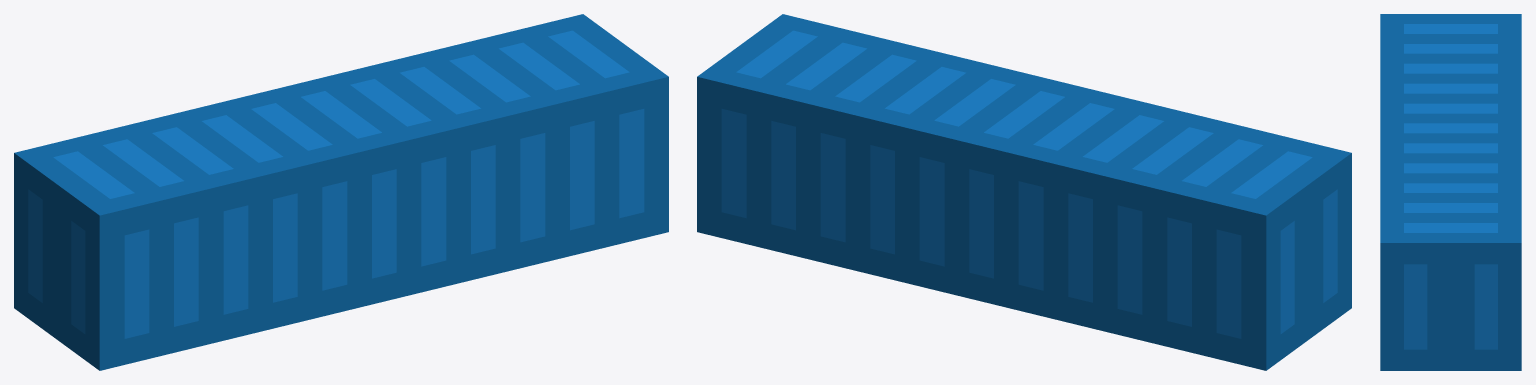
File: container-blue.gltf
The picture shows the model from 3 angles, left to right: view 1: azimuth 30°, elevation 25°; view 2: azimuth 150°, elevation 25°; view 3: azimuth 270°, elevation 25°; orthographic projection. The views are drawn at different scales.
Parts seen in each view (by area): view 1: model; view 2: model; view 3: model.
Boxes of the visible parts, left/top/right/bottom form: model: left=14, top=14, right=668, bottom=370; model: left=697, top=14, right=1351, bottom=370; model: left=1380, top=14, right=1521, bottom=370.
Size of the model in its own units: 2.3 by 0.6 by 0.6.
Materials: 1 (1 with a texture image).
